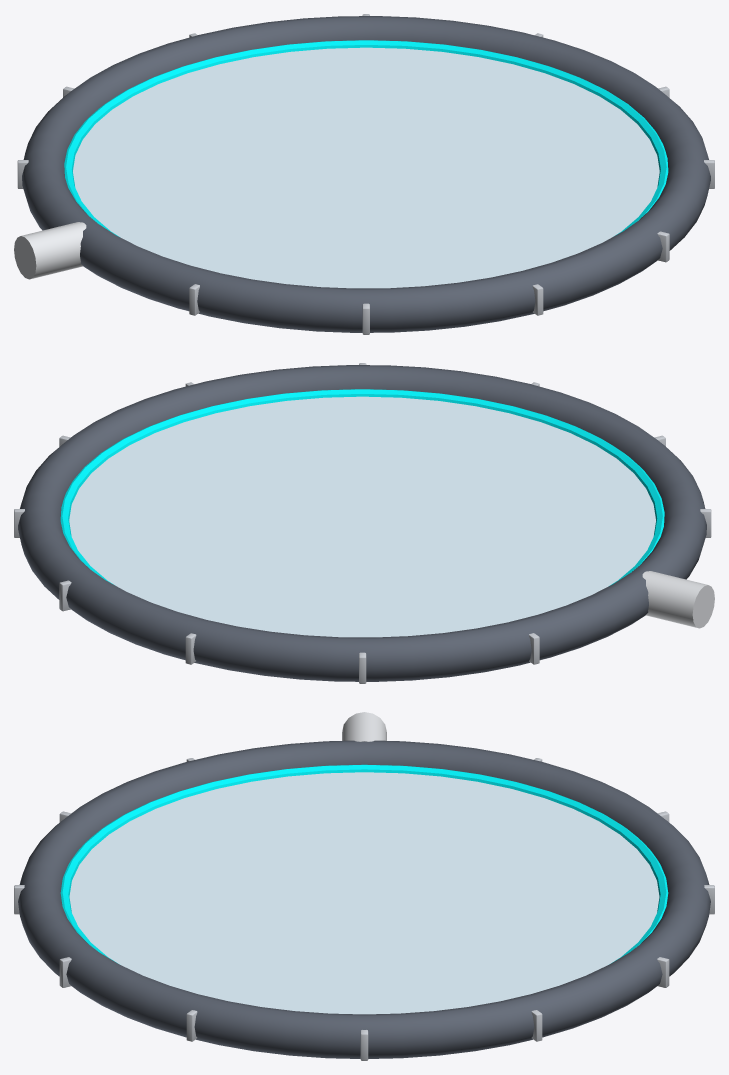
The model's file is polarizer_ring.glb.
3 views of the same model, one above another, from view 1: azimuth 30°, elevation 25°; view 2: azimuth 150°, elevation 25°; view 3: azimuth 270°, elevation 25° (orthographic).
Parts seen in each view (by area): view 1: Torus; view 2: Torus; view 3: Torus.
Boxes of the visible parts, left/top/right/bottom form: Torus: left=14, top=14, right=714, bottom=334; Torus: left=14, top=363, right=714, bottom=683; Torus: left=14, top=712, right=714, bottom=1060.
Size of the model in its own units: 5.99 by 0.36 by 5.62.
